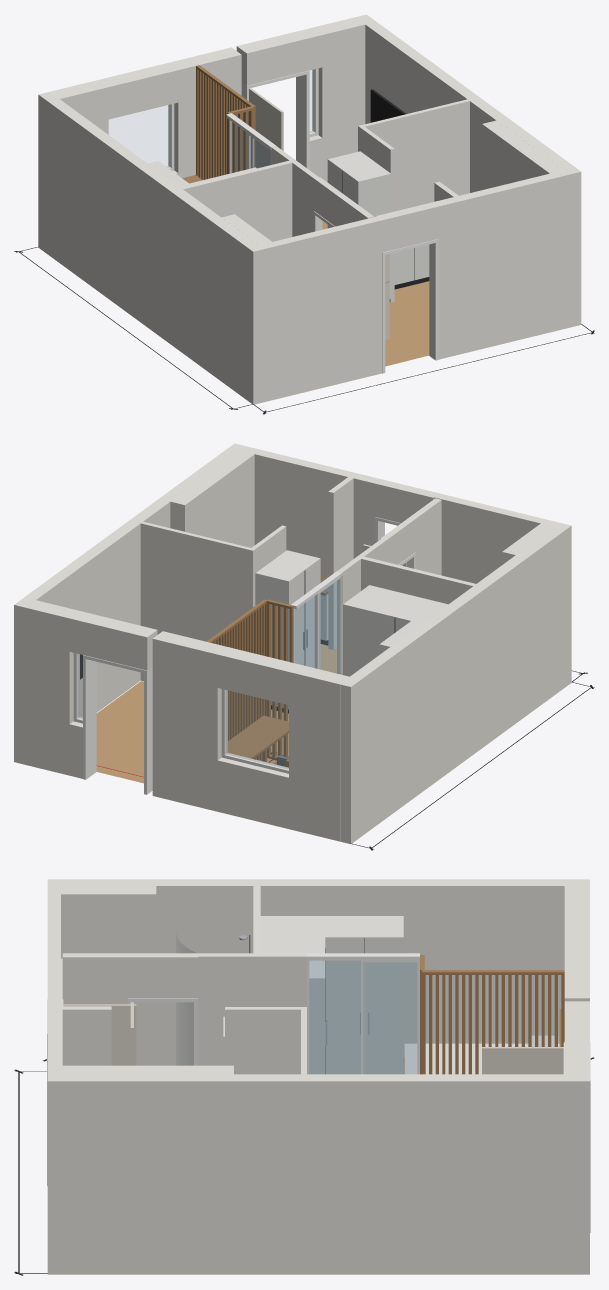
The picture shows the model from 3 angles, top to bottom: view 1: azimuth 30°, elevation 25°; view 2: azimuth 150°, elevation 25°; view 3: azimuth 270°, elevation 25°; orthographic projection. The views are drawn at different scales.
Parts seen in each view (by area): view 1: w10, w6, w4, wyposazenie-sciana, w11, w7, w8, w2, wyposazenie-drewno, wyposazenie-bialy, w5, wyposazenie-rama (+13 smaller); view 2: w10, wyposazenie-sciana, w11, w5, w7, wyposazenie-bialy, w6, w1, w8, wyposazenie-drewno, w4, w15 (+11 smaller); view 3: w11, w10, wyposazenie-bialy, wyposazenie-szklo_blekitne, wyposazenie-drewno, w16, wyposazenie-sciana, w13, w14, wyposazenie-skrzydlo, w17, w18 (+13 smaller).
Boxes of the visible parts, box(x1,y1,x2,y2) form: w10: box(38, 92, 264, 404); w6: box(433, 170, 571, 359); w4: box(258, 216, 381, 401); wyposazenie-sciana: box(99, 27, 438, 252); w11: box(356, 14, 581, 327); w7: box(358, 99, 469, 211); w8: box(312, 17, 365, 182); w2: box(179, 159, 297, 241); wyposazenie-drewno: box(182, 65, 255, 183); wyposazenie-bialy: box(148, 151, 429, 298); w5: box(168, 47, 241, 177); wyposazenie-rama: box(241, 70, 438, 373); w10: box(340, 523, 571, 844); wyposazenie-sciana: box(69, 479, 438, 828); w11: box(14, 443, 244, 764); w5: box(152, 631, 227, 811); w7: box(140, 521, 254, 681); wyposazenie-bialy: box(255, 550, 447, 709); w6: box(240, 446, 381, 575); w1: box(289, 664, 350, 841); w8: box(24, 600, 79, 775); wyposazenie-drewno: box(206, 599, 293, 767); w4: box(434, 493, 559, 583); w15: box(180, 452, 254, 547); w11: box(47, 1074, 589, 1274); w10: box(47, 879, 589, 1065); wyposazenie-bialy: box(223, 916, 559, 1074); wyposazenie-szklo_blekitne: box(309, 961, 416, 1073); wyposazenie-drewno: box(403, 955, 564, 1074); w16: box(61, 891, 156, 1065); wyposazenie-sciana: box(47, 916, 589, 1047); w13: box(225, 1007, 300, 1074); w14: box(198, 953, 253, 1065); wyposazenie-skrzydlo: box(63, 1002, 563, 1074); w17: box(62, 953, 127, 1004); w18: box(62, 1006, 111, 1065).
Bounding box in the file's own units: 6.3 × 2.6 × 7.08.
